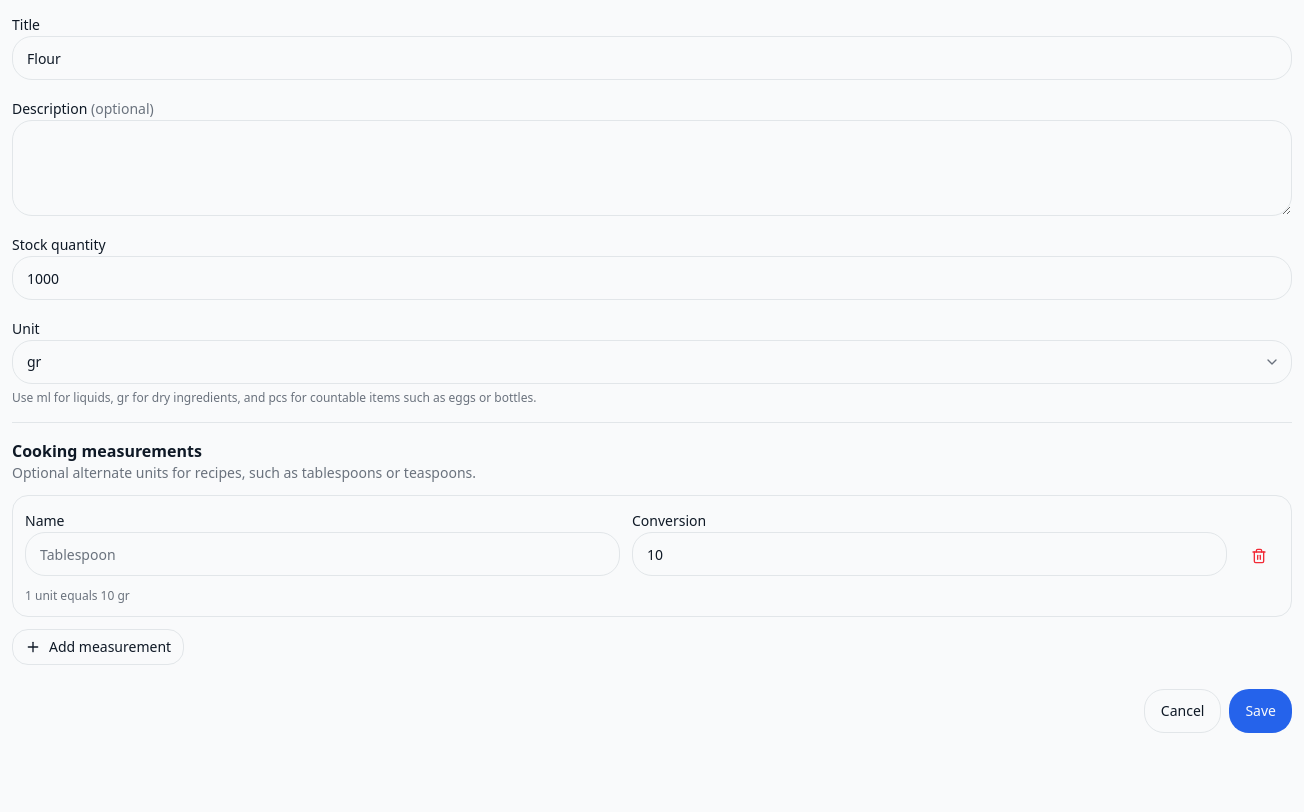
FoodSupplyForm › blocks submit when cooking measurement name is empty
Click the button "Save".
click(1261, 711)  # box 1229,689 -> 1292,733
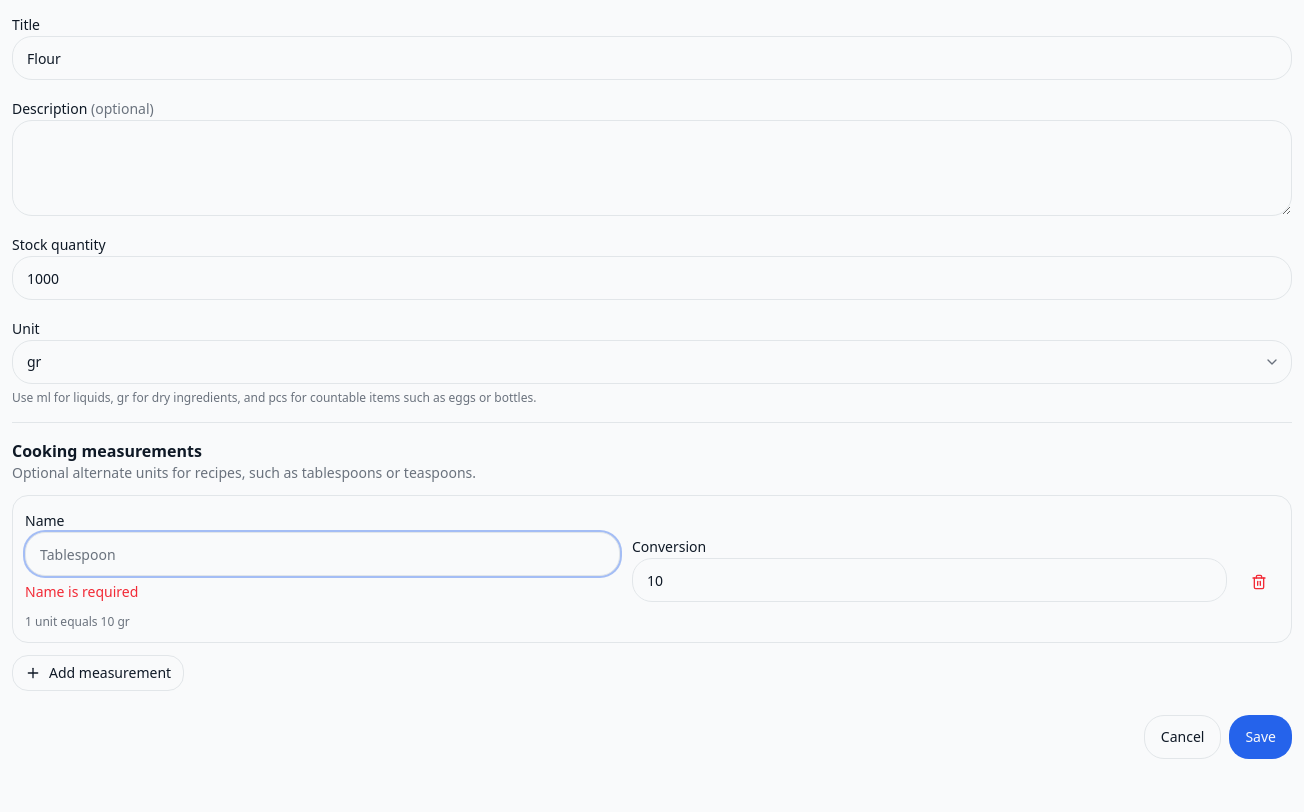
Check: the text "Name is required" is shown, box 25,582 -> 138,601
